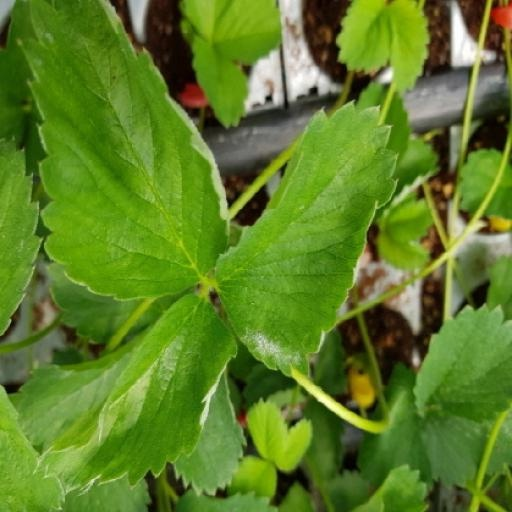Powdery Mildew Leaf: (282, 210, 499, 511), (111, 135, 297, 413), (273, 13, 479, 223)
